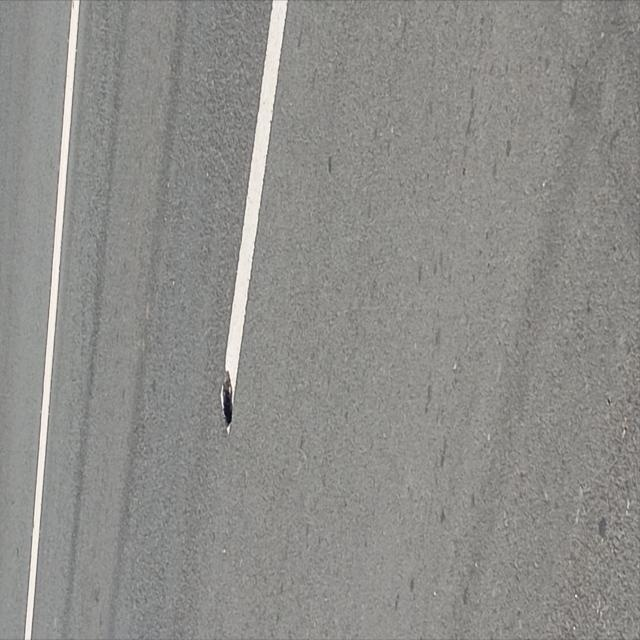pothole: (186, 374, 248, 441)
